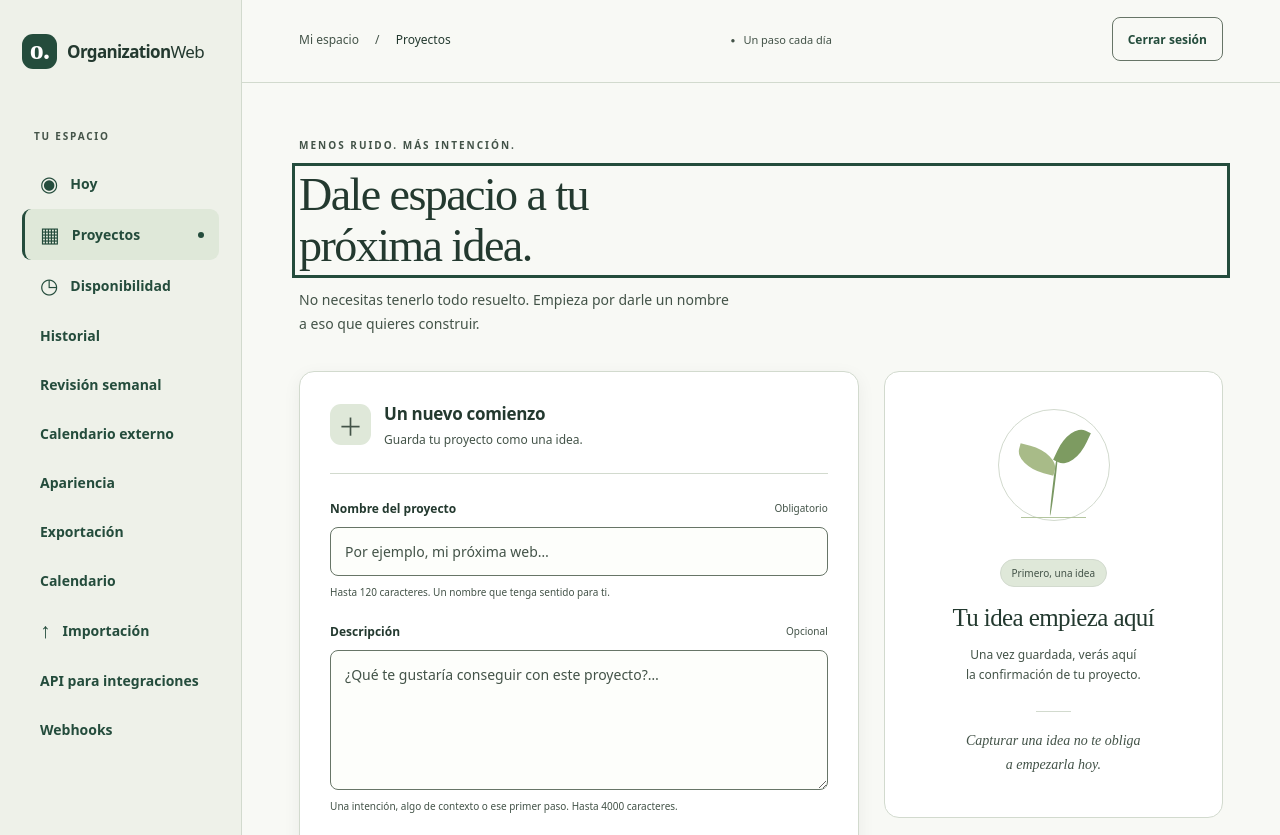
Test: @s39 import23 retires metadata on a current 401 before session recheck finishes
The width and height of the screenshot is (1280, 835).
Type "Proyecto" into the field labelled "Nombre del proyecto Obligatorio". click: (579, 551)
box: top-left (330, 527), bottom-right (828, 576)
(page scrolled)
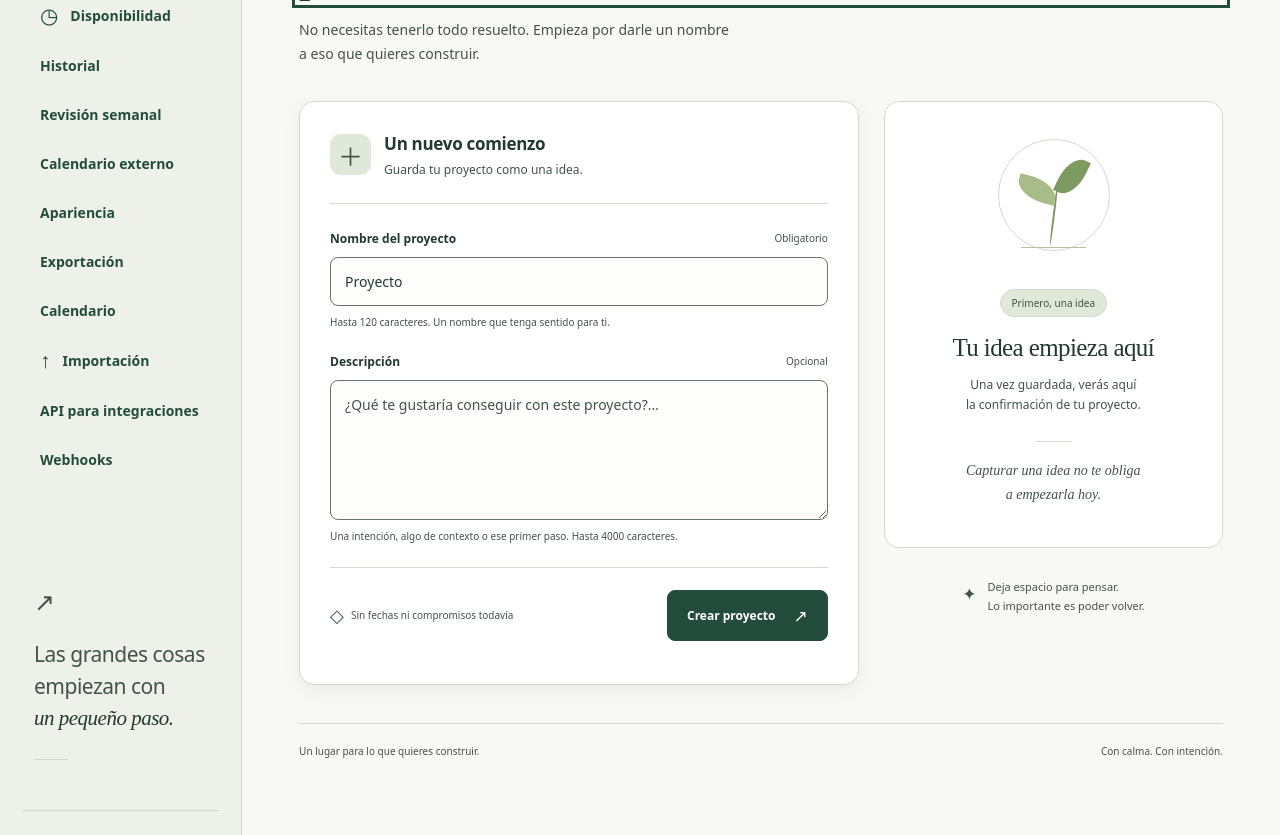
Click the button "Crear proyecto ↗". click: (747, 615)
box: top-left (667, 590), bottom-right (828, 641)
(page scrolled)
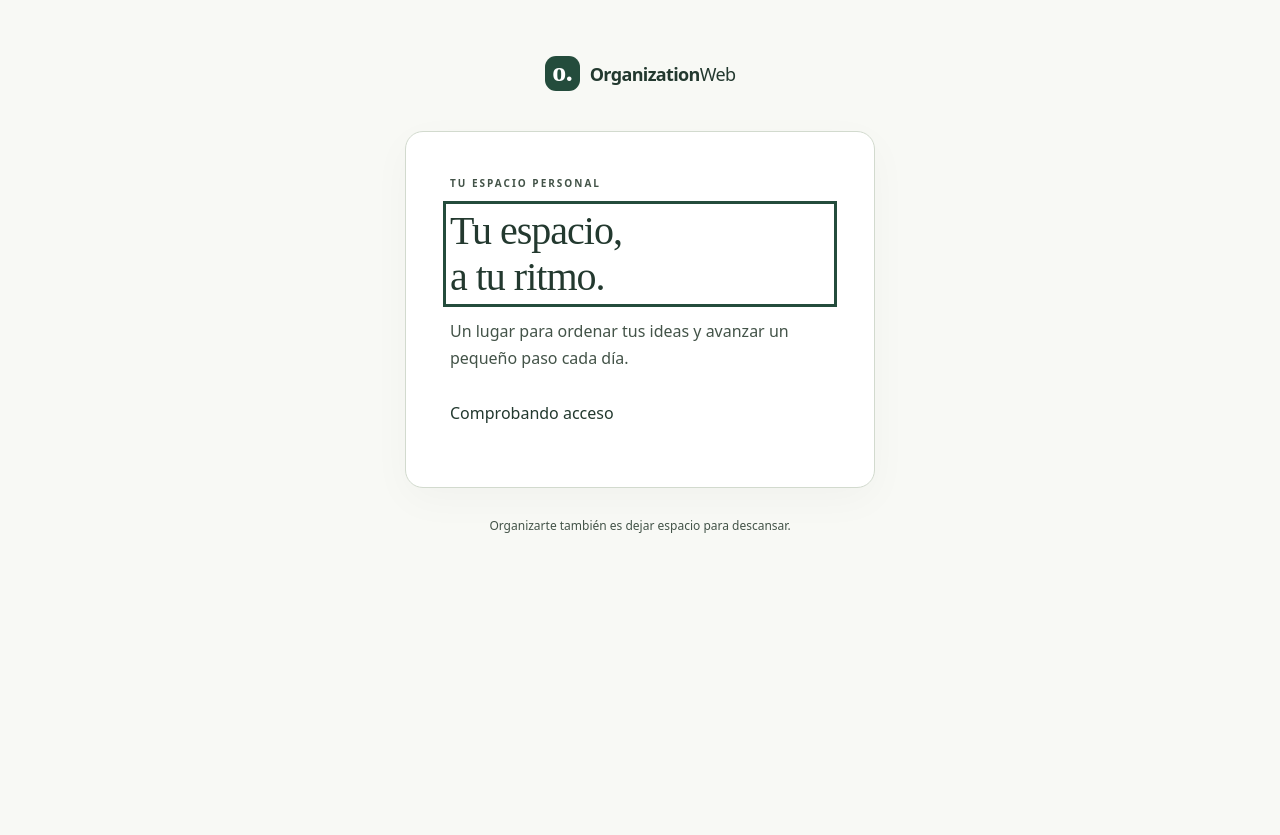
Now the button "Crear proyecto" is gone
